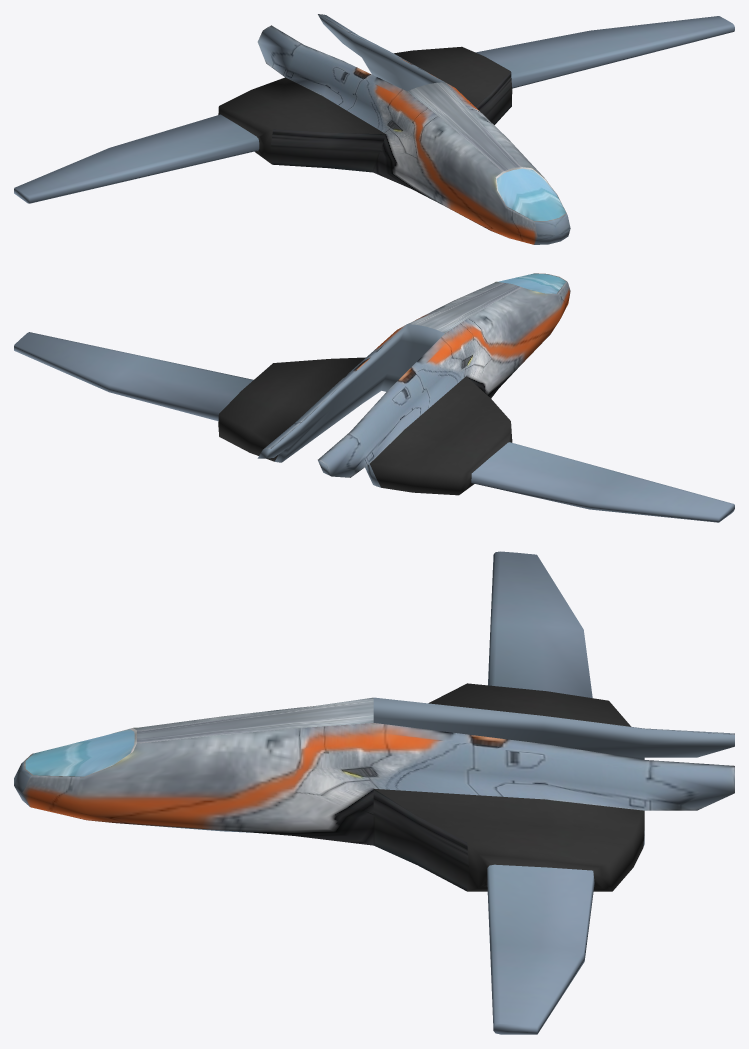
The model's file is spaceship_1_1784487535514_model.glb.
The picture shows the model from 3 angles, top to bottom: view 1: azimuth 30°, elevation 25°; view 2: azimuth 150°, elevation 25°; view 3: azimuth 270°, elevation 25°; orthographic projection. The views are drawn at different scales.
Parts seen in each view (by area): view 1: Cube.001; view 2: Cube.001; view 3: Cube.001.
Part boxes in pixels (x1,y1,x2,y2): Cube.001: (14,14,734,244); Cube.001: (14,273,734,522); Cube.001: (14,551,734,1034).
Bounding box in the file's own units: 19.61 × 2.04 × 12.66.
Materials: 1 (1 with a texture image).
